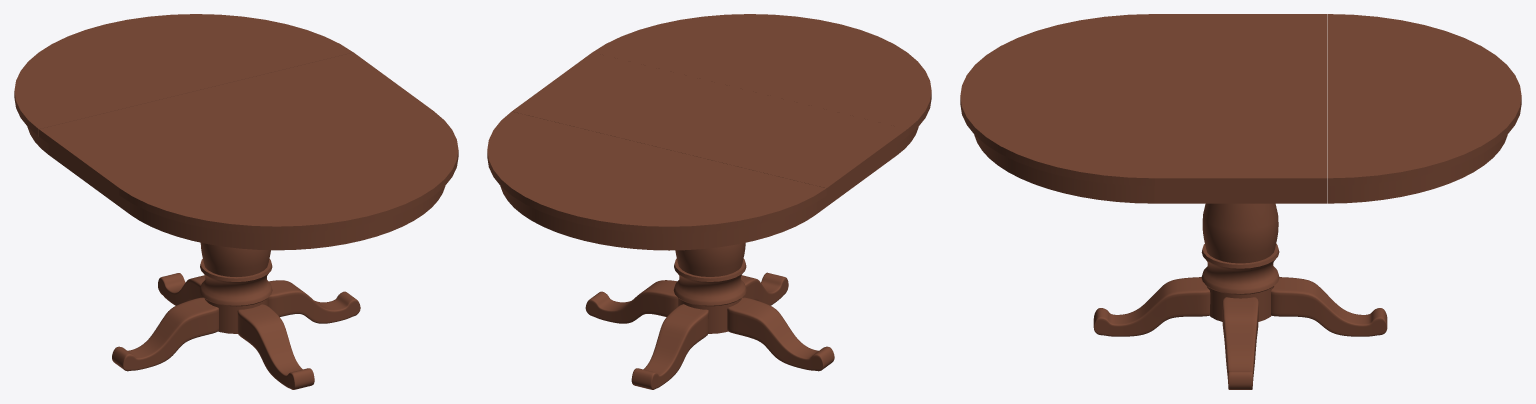
The model's file is mesa.gltf.
3 renders of one model, left to right at view 1: azimuth 30°, elevation 25°; view 2: azimuth 150°, elevation 25°; view 3: azimuth 270°, elevation 25°, orthographic. The views are drawn at different scales.
Parts seen in each view (by area): view 1: 16697_Straight Leg_Round_Table_Oak_V1; view 2: 16697_Straight Leg_Round_Table_Oak_V1; view 3: 16697_Straight Leg_Round_Table_Oak_V1.
Part boxes in pixels (left/top/right/bottom): 16697_Straight Leg_Round_Table_Oak_V1: left=14, top=14, right=458, bottom=389; 16697_Straight Leg_Round_Table_Oak_V1: left=487, top=14, right=931, bottom=389; 16697_Straight Leg_Round_Table_Oak_V1: left=960, top=14, right=1521, bottom=389.
Bounding box in the file's own units: 1.53 × 1.03 × 2.21.
